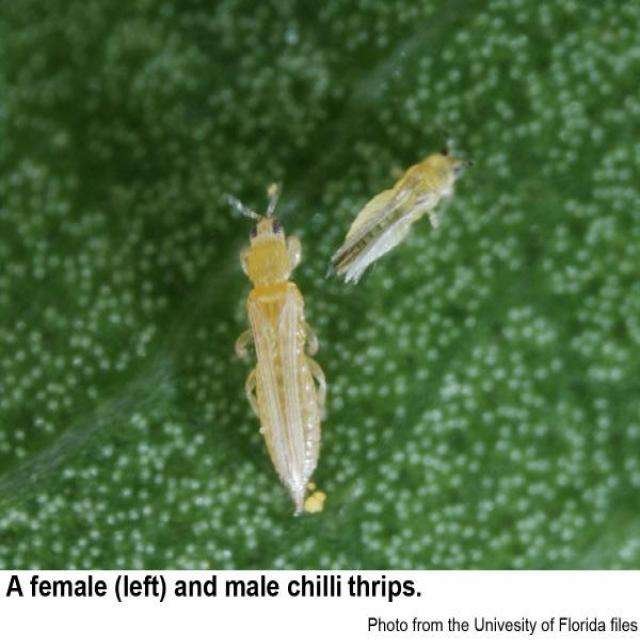Thrip-Adult-: (213, 178, 336, 518), (325, 132, 476, 291)
